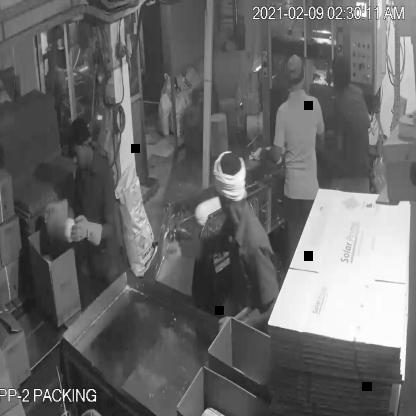glove: (158, 228, 209, 267), (68, 212, 106, 254), (40, 196, 72, 226)
